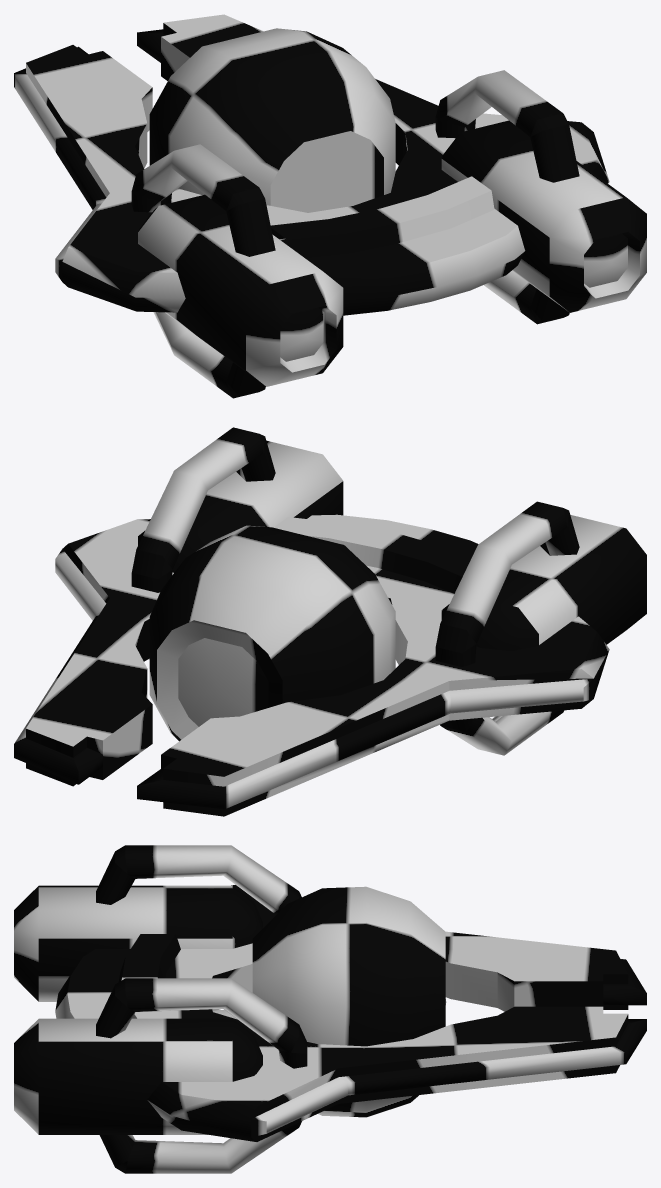
Rendered from spartan_drone.obj.
3 views of the same model, one above another, from view 1: azimuth 30°, elevation 25°; view 2: azimuth 150°, elevation 25°; view 3: azimuth 270°, elevation 25° (orthographic). The views are drawn at different scales.
Visible parts, largest first — view 1: drone, ball; view 2: drone, ball; view 3: drone, ball.
Boxes of the visible parts, bbox=[...] form: drone: bbox=[14, 14, 646, 398]; ball: bbox=[149, 28, 395, 212]; drone: bbox=[14, 427, 646, 816]; ball: bbox=[149, 525, 395, 741]; drone: bbox=[14, 845, 646, 1173]; ball: bbox=[252, 886, 446, 1117].
Bounding box in the file's own units: 32.99 × 12.94 × 37.9.
2 materials, 2 textured.
